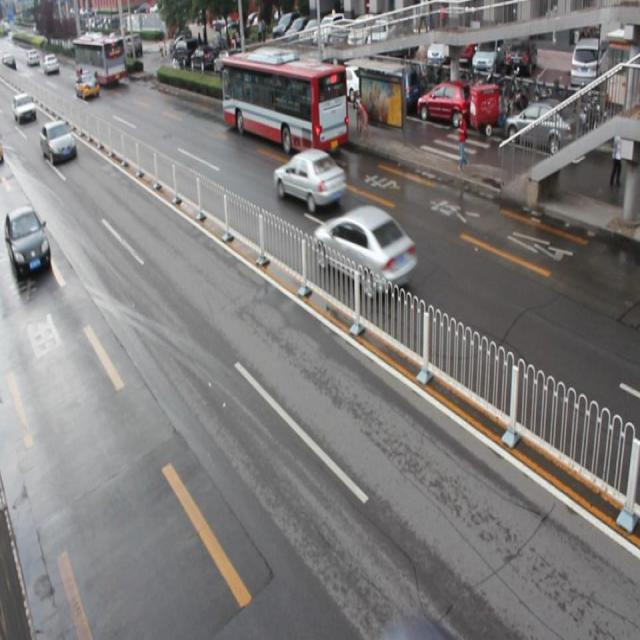car: (312, 202, 415, 296), (273, 147, 345, 210), (1, 203, 52, 277), (40, 118, 78, 165)
van: (220, 53, 347, 153)
